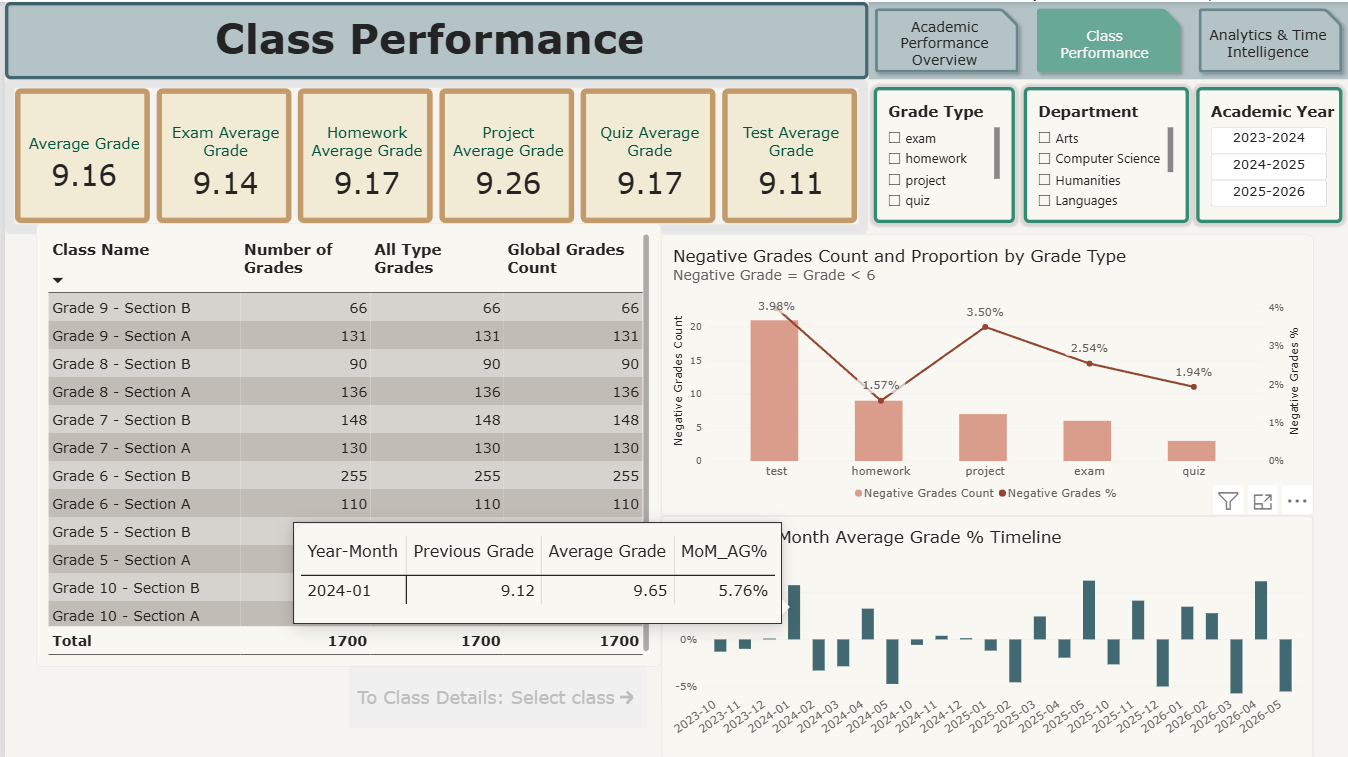

This screenshot's page, from the dashboard's own definition file:
{"tool":"powerbi","page":{"name":"Class Performance","canvas":[1920,1080],"ordinal":1},"visuals":[{"type":"cardVisual","fields":{"Data":["_Measures.Avg_grade","_Measures.Exam_avg_grade","_Measures.HW_avg_grade","_Measures.Project_avg_grade","_Measures.Quiz_avg_grade","_Measures.Test_avg_grade"]},"box":[0,109.1,1232.9,222.3],"z":0},{"type":"listSlicer","fields":{"Values":["grades.grade_type"]},"box":[1241.1,121.4,201.8,194.6],"z":1000},{"type":"tableEx","fields":{"Values":["classes.class_name","_Measures.Total_grades","_Measures.All_Type_grades","_Measures.Global_grades_Count"]},"box":[44.6,316.1,892.9,633.9],"z":2000},{"type":"lineClusteredColumnComboChart","title":"Negative Grades Count and Proportion by Grade Type","fields":{"Category":["grades.grade_type"],"Y":["_Measures.Neg_grades_Count"],"Y2":["_Measures.Neg_grades_Prop"]},"box":[937.5,332.1,932.1,401.8],"z":3000},{"type":"clusteredColumnChart","title":"Month-over-Month Average Grade % Timeline","fields":{"Category":["Calendar.Year-Month"],"Y":["_Measures.MoM_AG%"]},"box":[937.5,733.9,932.1,348.2],"z":4000},{"type":"advancedSlicerVisual","fields":{"Values":["periods.academic_year"]},"box":[1701.8,121.4,208.9,194.6],"z":5000},{"type":"listSlicer","fields":{"Values":["subjects.department_hint"]},"box":[1455.4,121.4,235.7,194.6],"z":6000},{"type":"pageNavigator","box":[1233.7,0,686.7,110.6],"z":7000},{"type":"textbox","box":[0,0,1233.7,110.6],"z":8000},{"type":"actionButton","box":[491.1,950,426.8,87.5],"z":9000},{"type":"textbox","box":[100,100,300,66.1],"z":10000}]}

Visuals, with their boxes in screenshot pixels (x1, y1, x2, y2), scaled from the page's 1920x1080 canvas onto the 1348x757 screenshot:
cardVisual - _Measures.Avg_grade x _Measures.Exam_avg_grade: (0,76,866,232)
listSlicer - grades.grade_type: (871,85,1013,221)
tableEx - classes.class_name x _Measures.Total_grades: (31,222,658,666)
"Negative Grades Count and Proportion by Grade Type" lineClusteredColumnComboChart: (658,233,1313,514)
"Month-over-Month Average Grade % Timeline" clusteredColumnChart: (658,514,1313,756)
advancedSlicerVisual - periods.academic_year: (1195,85,1341,221)
listSlicer - subjects.department_hint: (1022,85,1187,221)
pageNavigator: (866,0,1347,78)
textbox: (0,0,866,78)
actionButton: (345,666,644,727)
textbox: (70,70,281,116)
